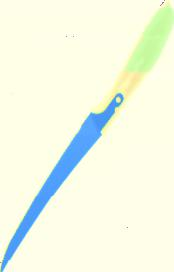Knife: (1, 3, 173, 272)
